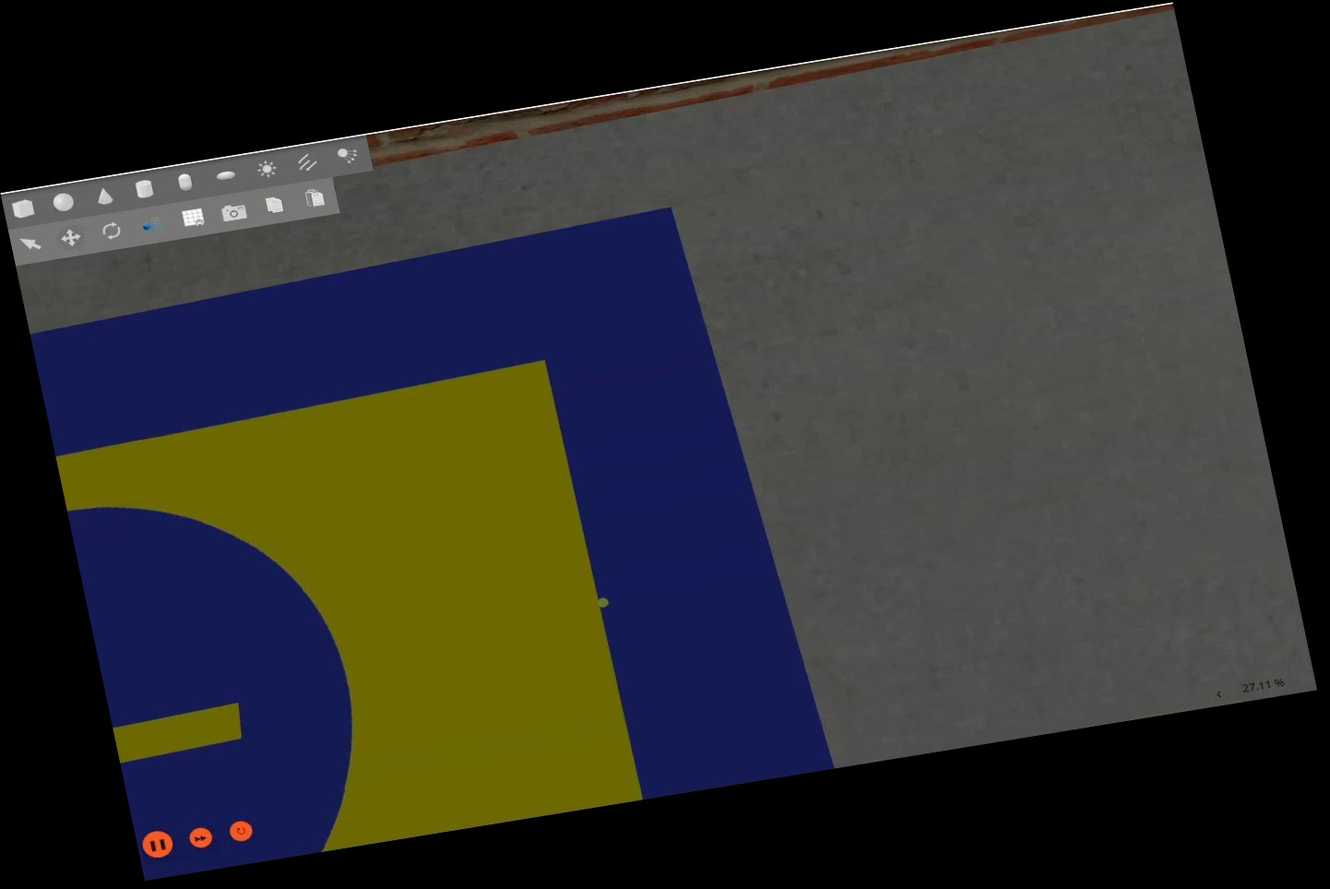large_base: (25, 197, 842, 880)
